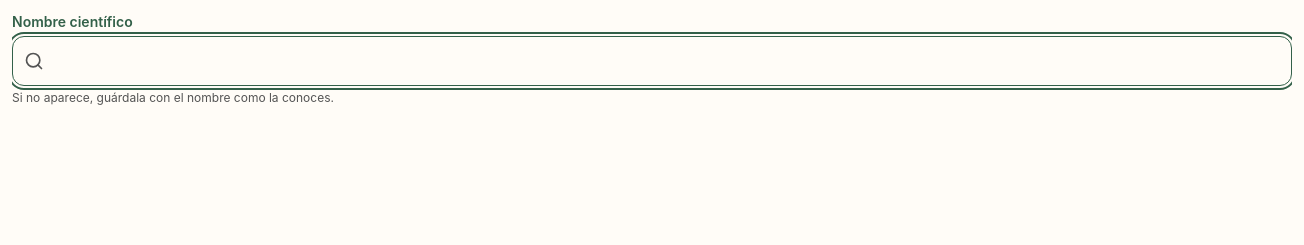
Autocomplete › Escape cierra la lista y, con la lista cerrada, borra el texto
Type "phal" into the dropdown labelled "Nombre científico". click: (652, 61)
box: [12,36,1292,86]
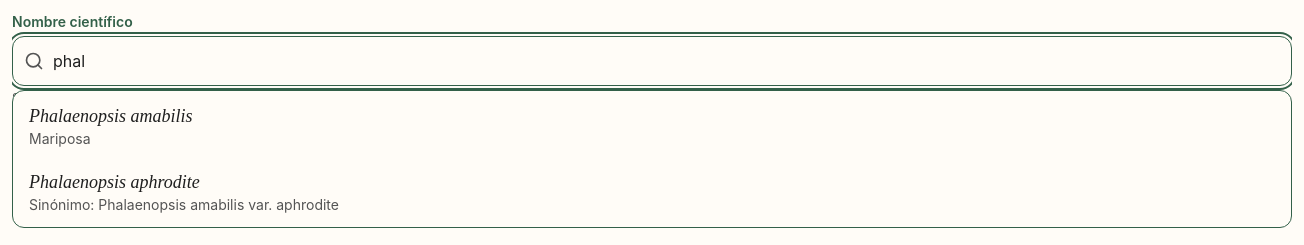
Press ArrowDown in the dropdown labelled "Nombre científico", box [12,36,1292,86]
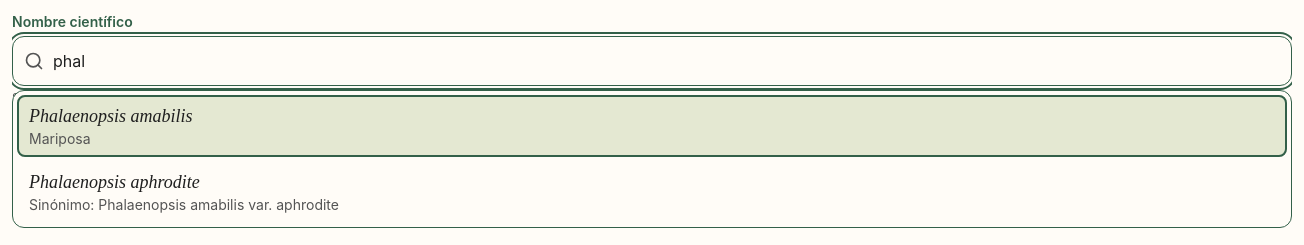
Press Escape in the dropdown labelled "Nombre científico", box [12,36,1292,86]
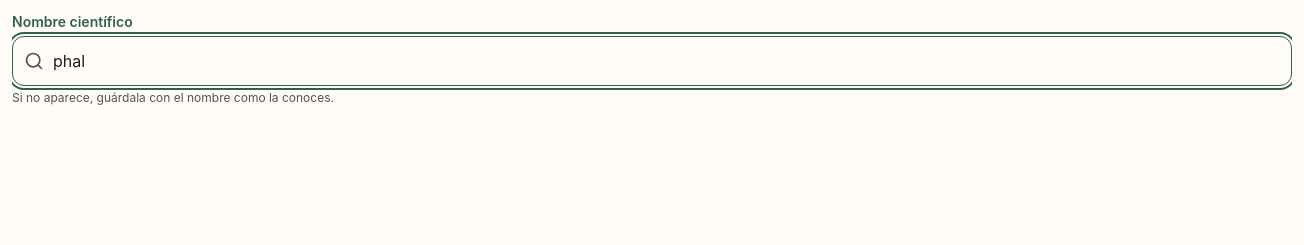
Press Escape in the dropdown labelled "Nombre científico", box [12,36,1292,86]
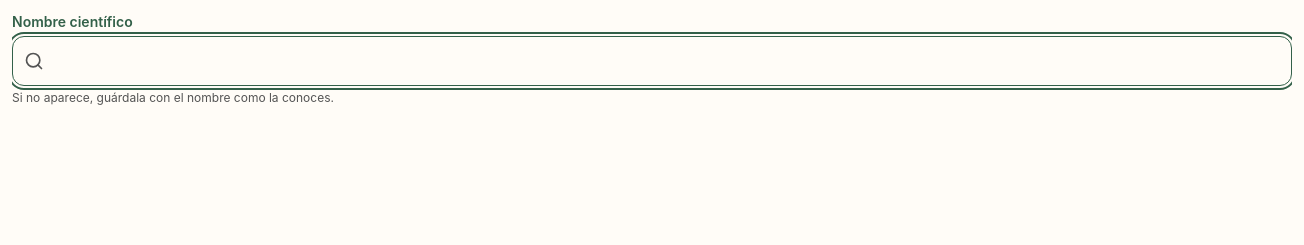
expect the dropdown labelled "Nombre científico" is empty: met, box [12,36,1292,86]
